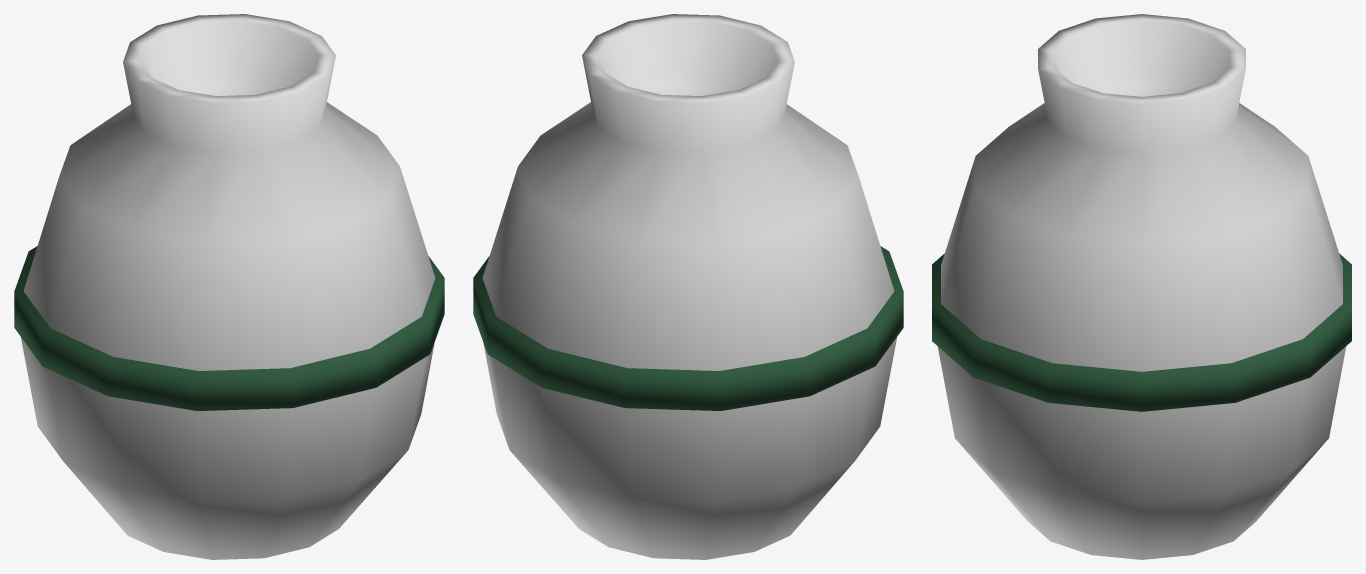
The model's file is clay_pot_v1.glb.
The picture shows the model from 3 angles, left to right: view 1: azimuth 30°, elevation 25°; view 2: azimuth 150°, elevation 25°; view 3: azimuth 270°, elevation 25°; orthographic projection.
Visible parts, largest first — view 1: clay_pot_v1; view 2: clay_pot_v1; view 3: clay_pot_v1.
Part boxes in pixels (left/top/right/bottom): clay_pot_v1: left=14, top=14, right=444, bottom=559; clay_pot_v1: left=473, top=14, right=903, bottom=559; clay_pot_v1: left=932, top=14, right=1351, bottom=559.
Size of the model in its own units: 0.77 by 0.8902 by 0.7507.
